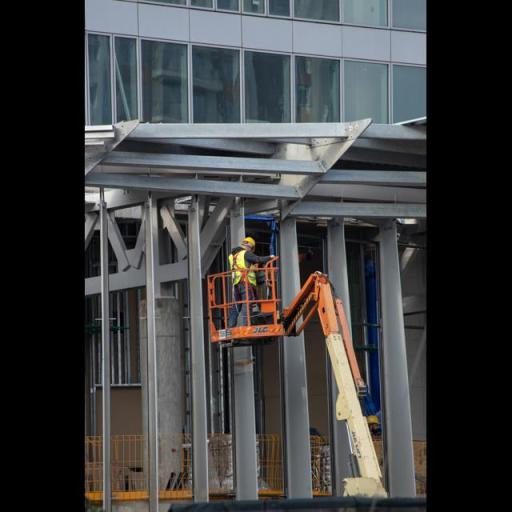Person: (212, 220, 279, 331)
helmet: (239, 234, 262, 257)
vest: (224, 242, 262, 290)
